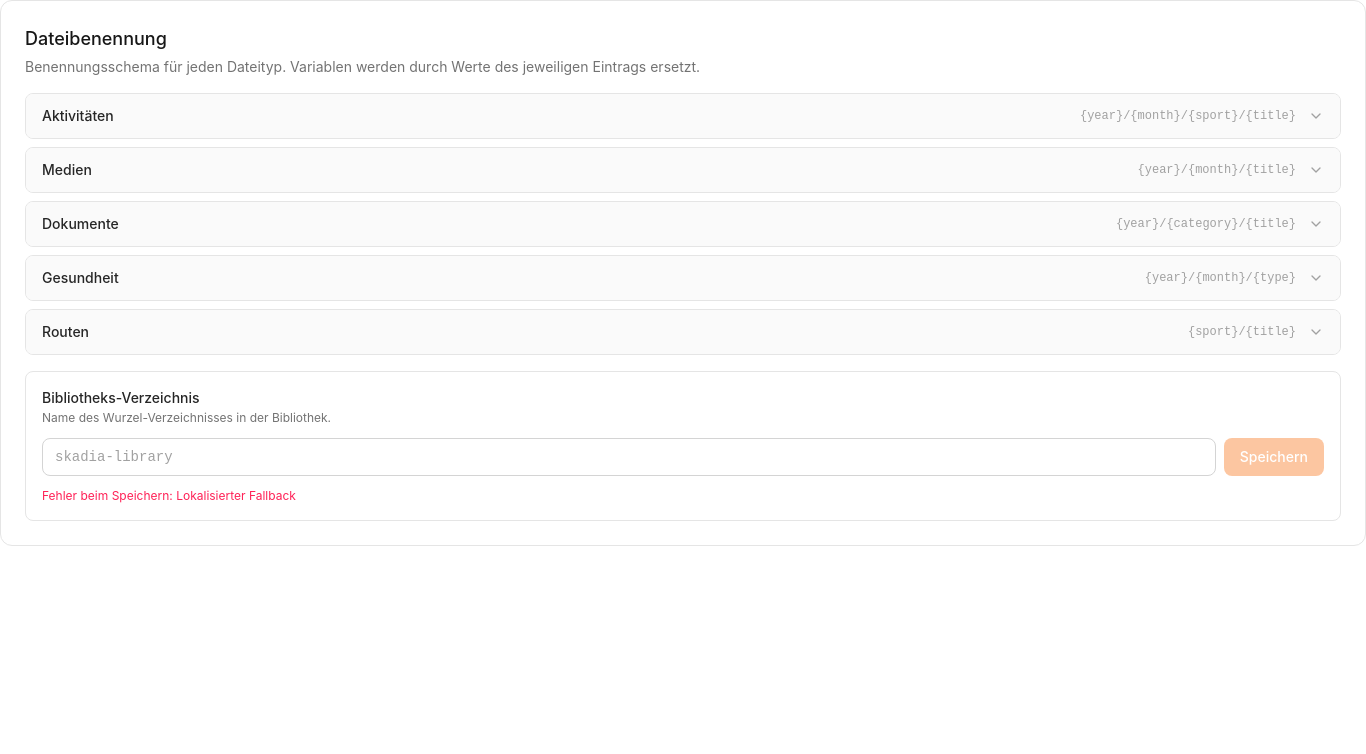
Test: FileSchemaSettings — editable state from context › uses the localized fallback for non-Error schema save failures
What coordinates should you click on to do the following:
click the button "Aktivitäten"
I would click on:
 (78, 116)
Its box is [26,94,1340,138].
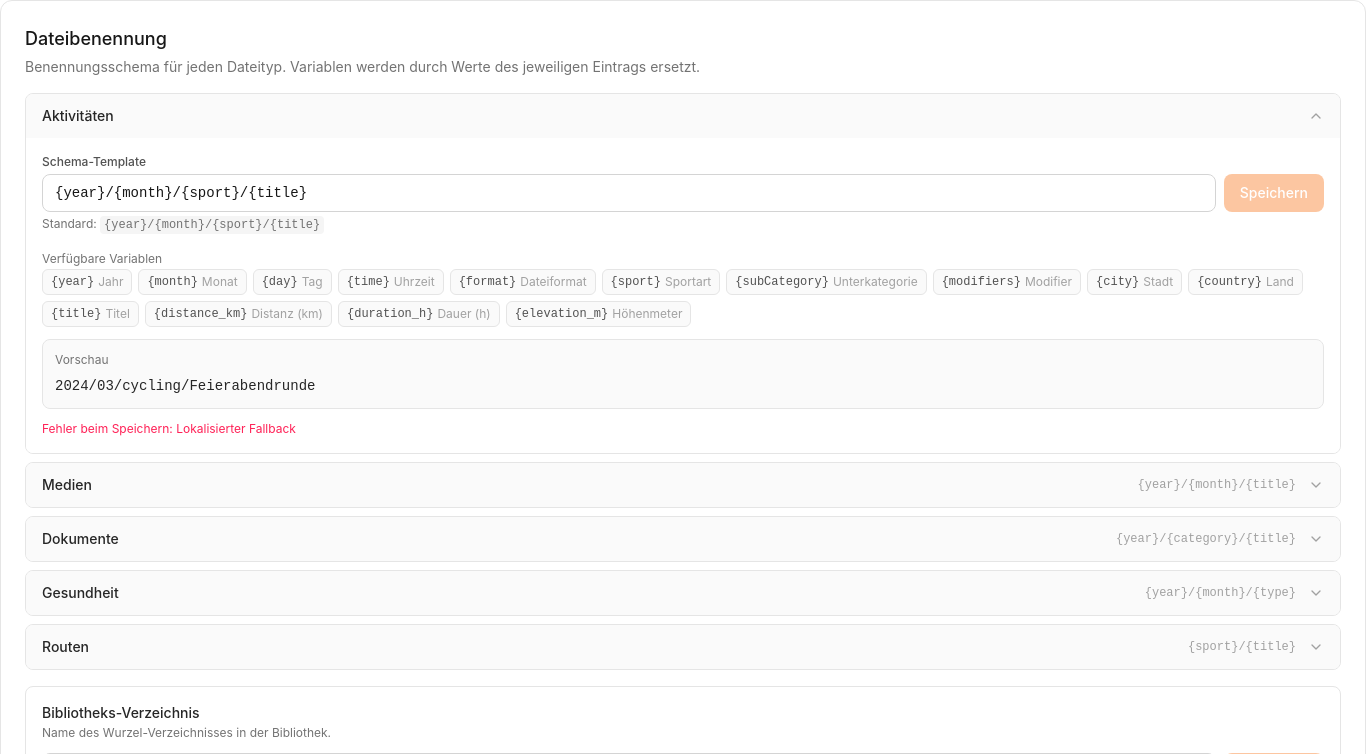
Now the text "Fehler beim Speichern: Lokalisierter Fallback" is shown, box [42,421,296,436]
